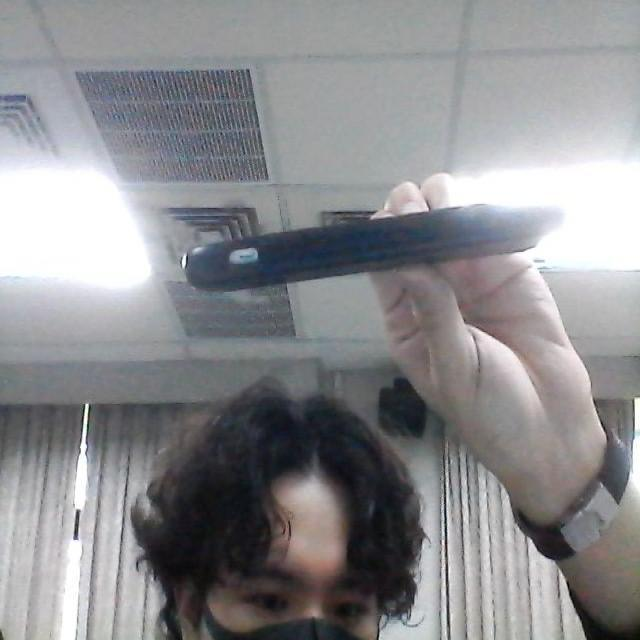Phone: (178, 202, 566, 298)
